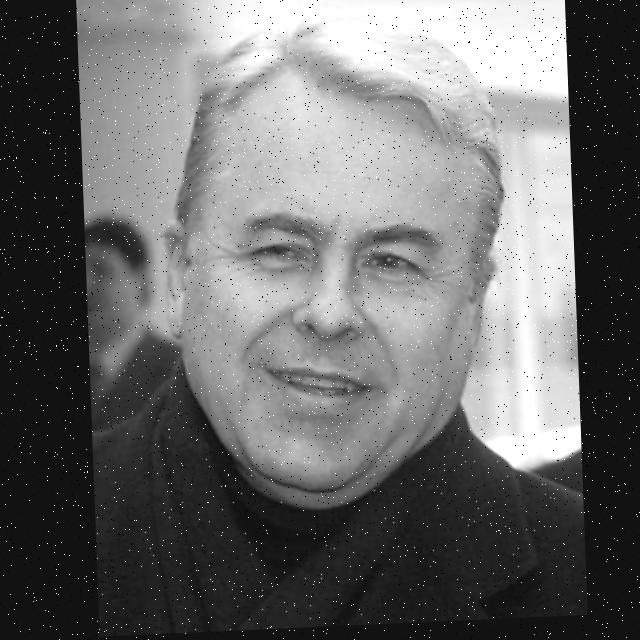face: (154, 56, 505, 521)
